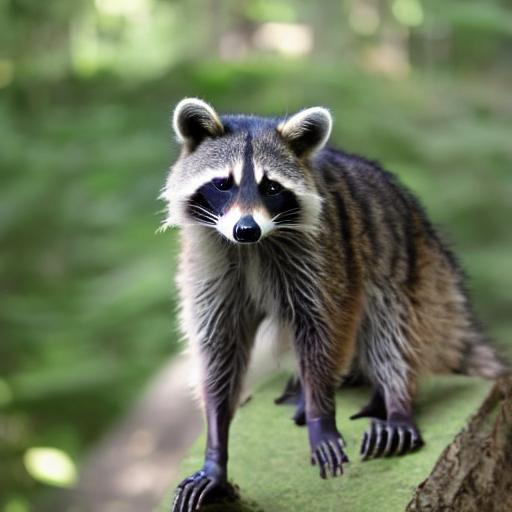raccoon: (148, 93, 512, 383)
